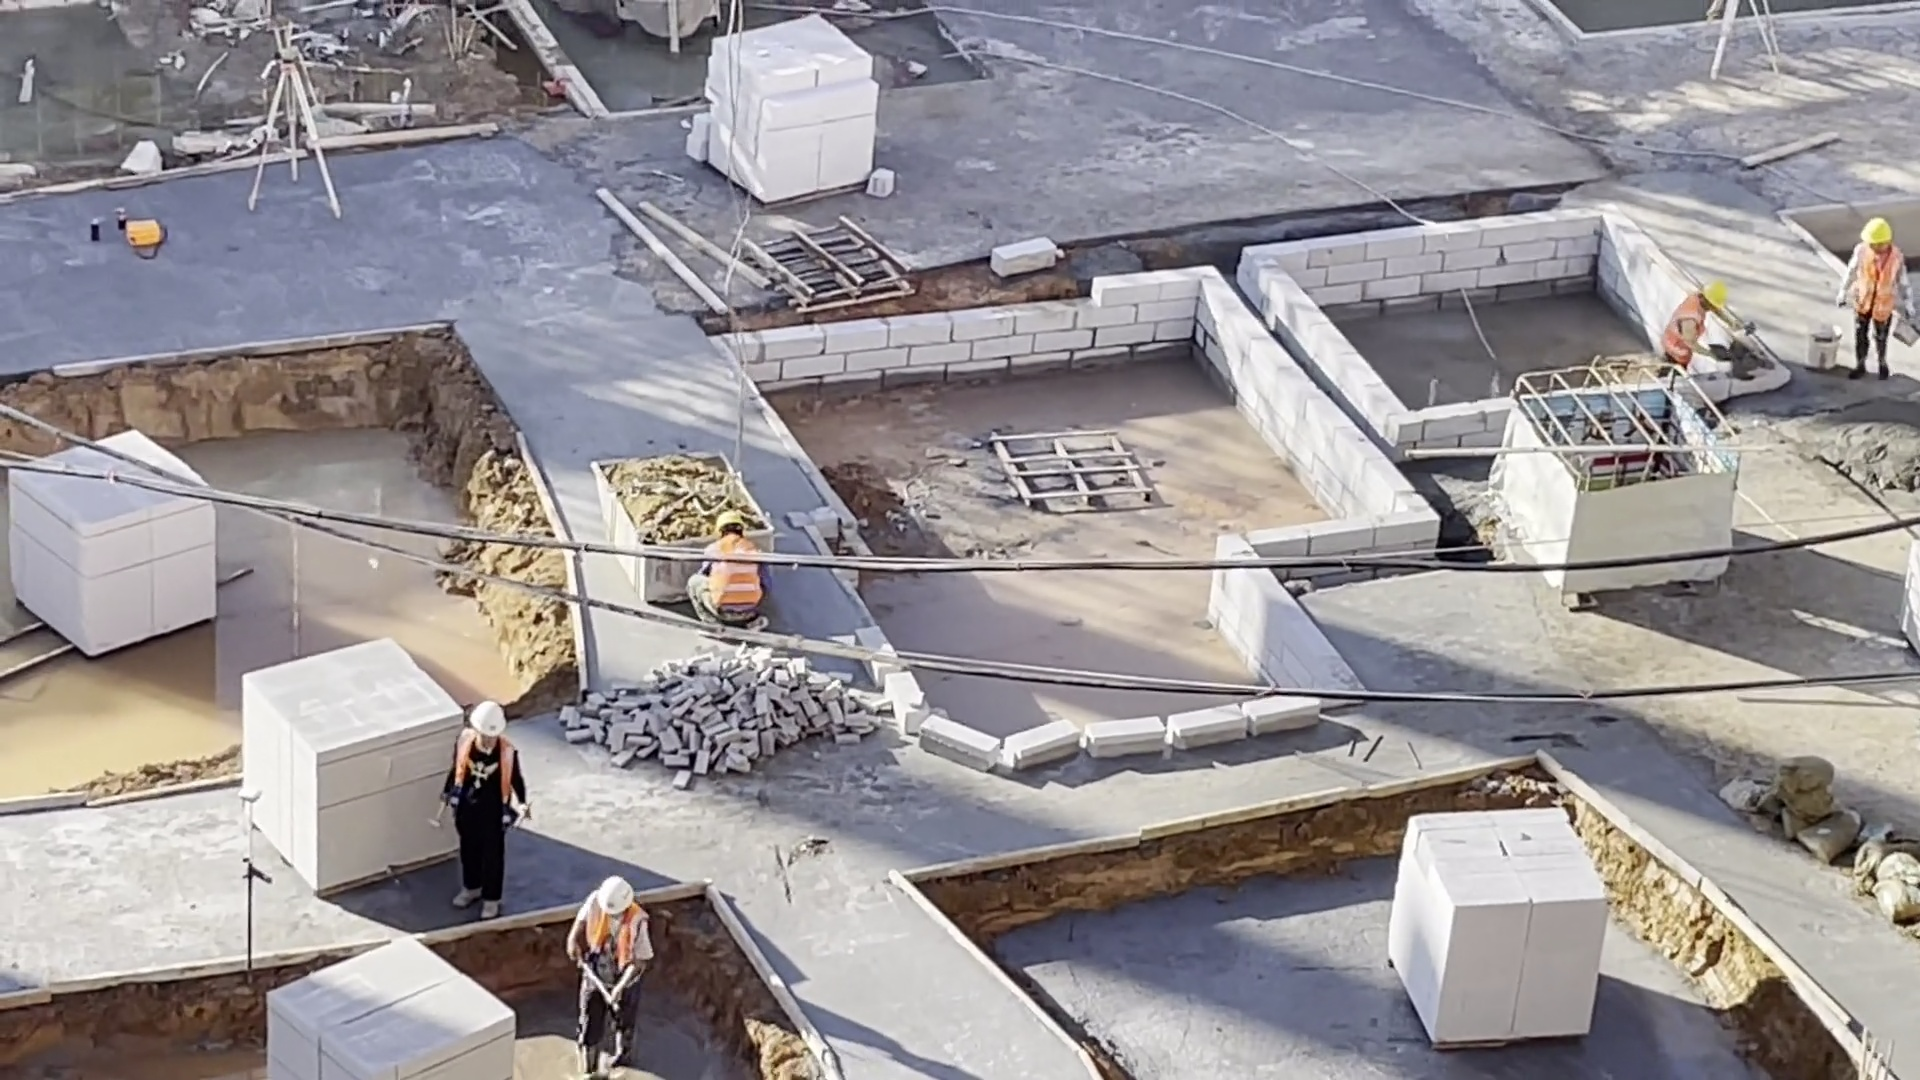brick: (1379, 804, 1610, 1050), (235, 637, 449, 893), (678, 13, 890, 215), (4, 495, 232, 663), (257, 934, 511, 1080)
helmet: (592, 873, 635, 916), (464, 699, 508, 736), (1855, 217, 1896, 245), (1701, 278, 1731, 315), (707, 510, 750, 534)
hopper: (593, 445, 765, 526)
person: (432, 699, 539, 921), (563, 871, 655, 1080), (1832, 214, 1914, 382), (681, 510, 775, 631), (1659, 274, 1744, 379)
vest: (445, 729, 512, 813), (586, 901, 649, 971), (1847, 245, 1902, 325), (1663, 295, 1709, 366), (695, 563, 763, 606)
